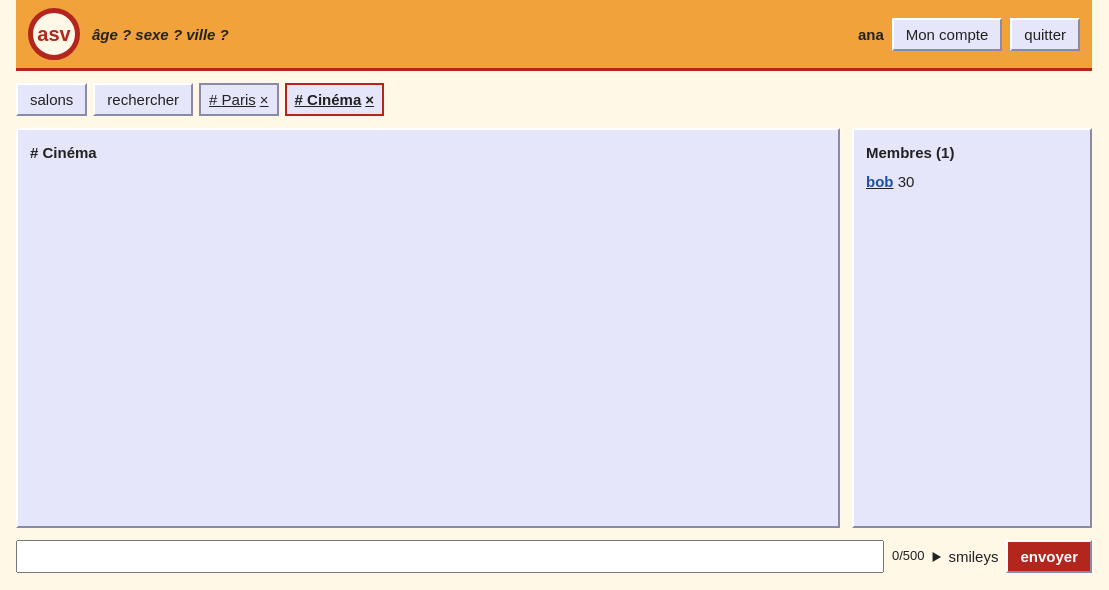
room screen › closing a tab sends leaveRoom and falls back to another room
Click the 2nd button "×". click: click(370, 100)
box: [363,87,376,112]
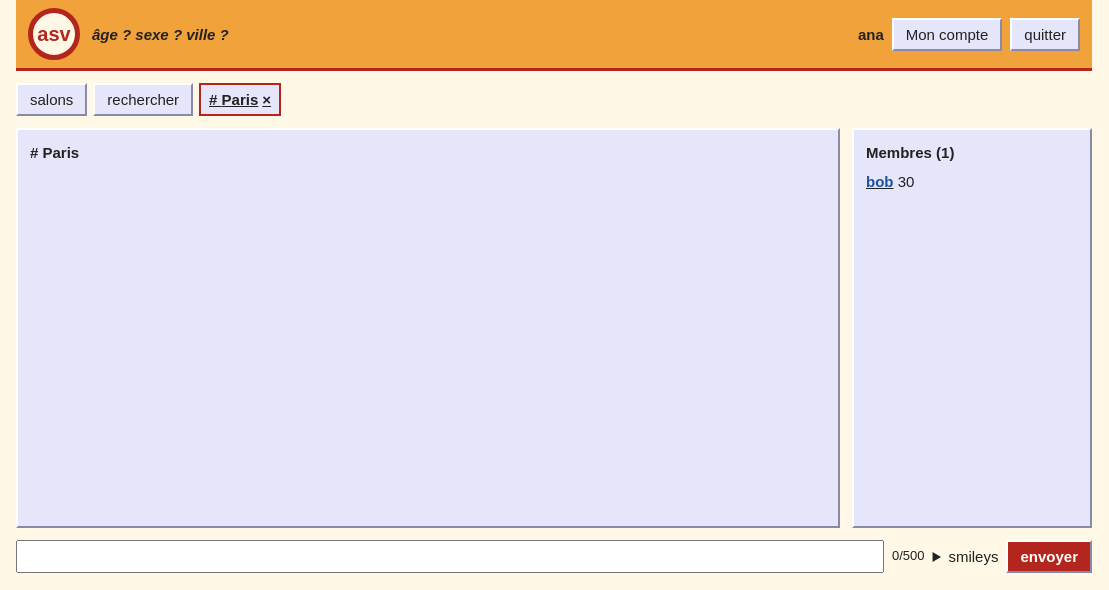
Expected: the heading "# Paris" is shown, [30,144,79,161]
